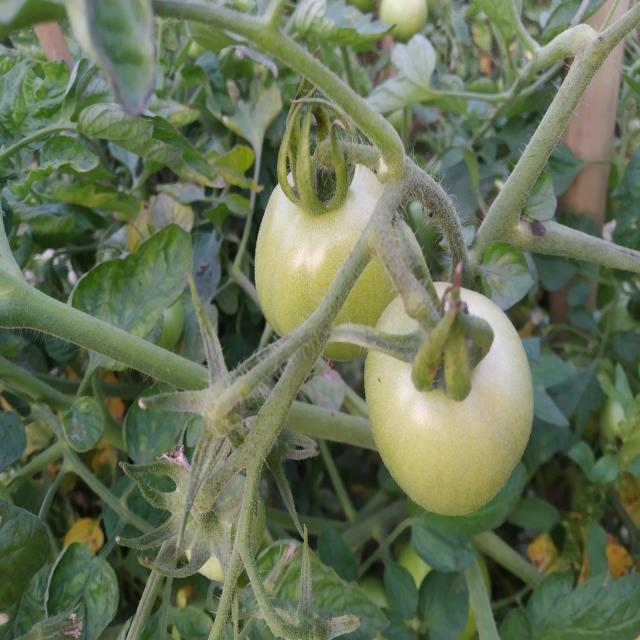Unripe: (364, 276, 534, 519), (252, 152, 413, 365)
